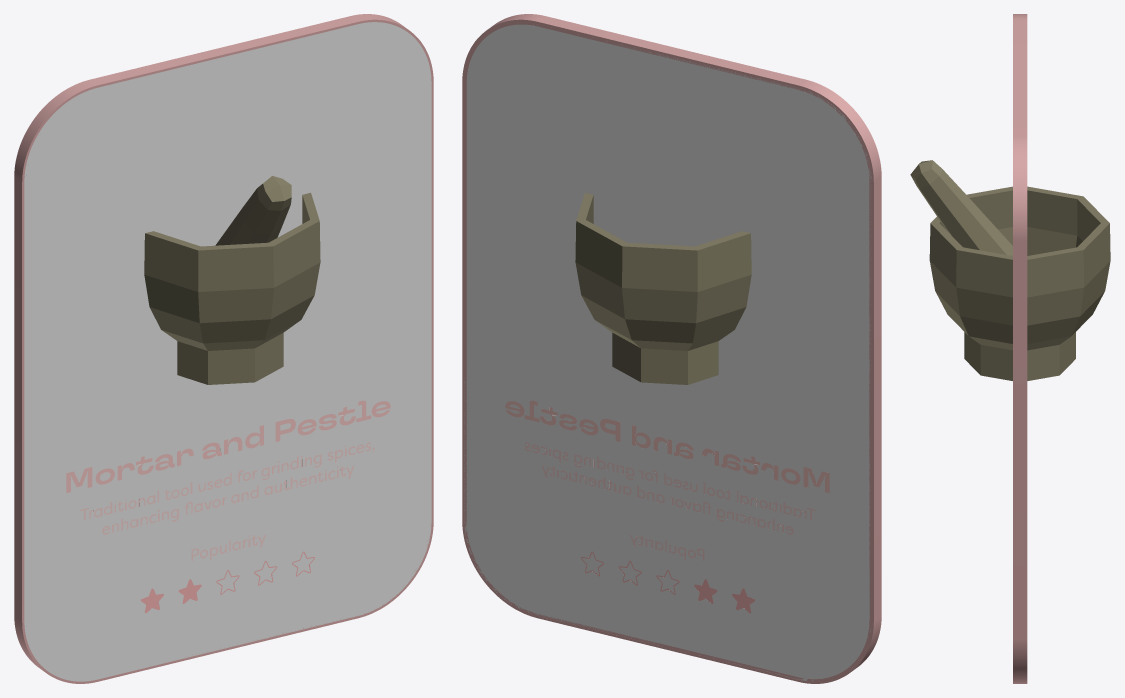
Rendered from mortar.gltf.
3 renders of one model, left to right at view 1: azimuth 30°, elevation 25°; view 2: azimuth 150°, elevation 25°; view 3: azimuth 270°, elevation 25°, orthographic. The views are drawn at different scales.
Visible parts, largest first — view 1: Asset 62new_cards.1002, mortar and pestle, Asset 62new_cards.977, Asset 62new_cards.975; view 2: Asset 62new_cards.1002, mortar and pestle, Asset 62new_cards.977, Asset 62new_cards.976, Asset 62new_cards.975; view 3: mortar and pestle, Asset 62new_cards.977.
Part boxes in pixels (x1,y1,x2,y2): Asset 62new_cards.1002: [26, 24, 429, 679]; mortar and pestle: [144, 176, 320, 384]; Asset 62new_cards.977: [14, 14, 433, 683]; Asset 62new_cards.975: [24, 22, 431, 681]; Asset 62new_cards.1002: [466, 24, 869, 679]; mortar and pestle: [575, 192, 751, 384]; Asset 62new_cards.977: [462, 14, 881, 683]; Asset 62new_cards.976: [464, 22, 871, 681]; Asset 62new_cards.975: [464, 42, 871, 681]; mortar and pestle: [910, 160, 1110, 380]; Asset 62new_cards.977: [1013, 14, 1027, 683].
Bounding box in the file's own units: 15.99 × 22.15 × 7.44.
